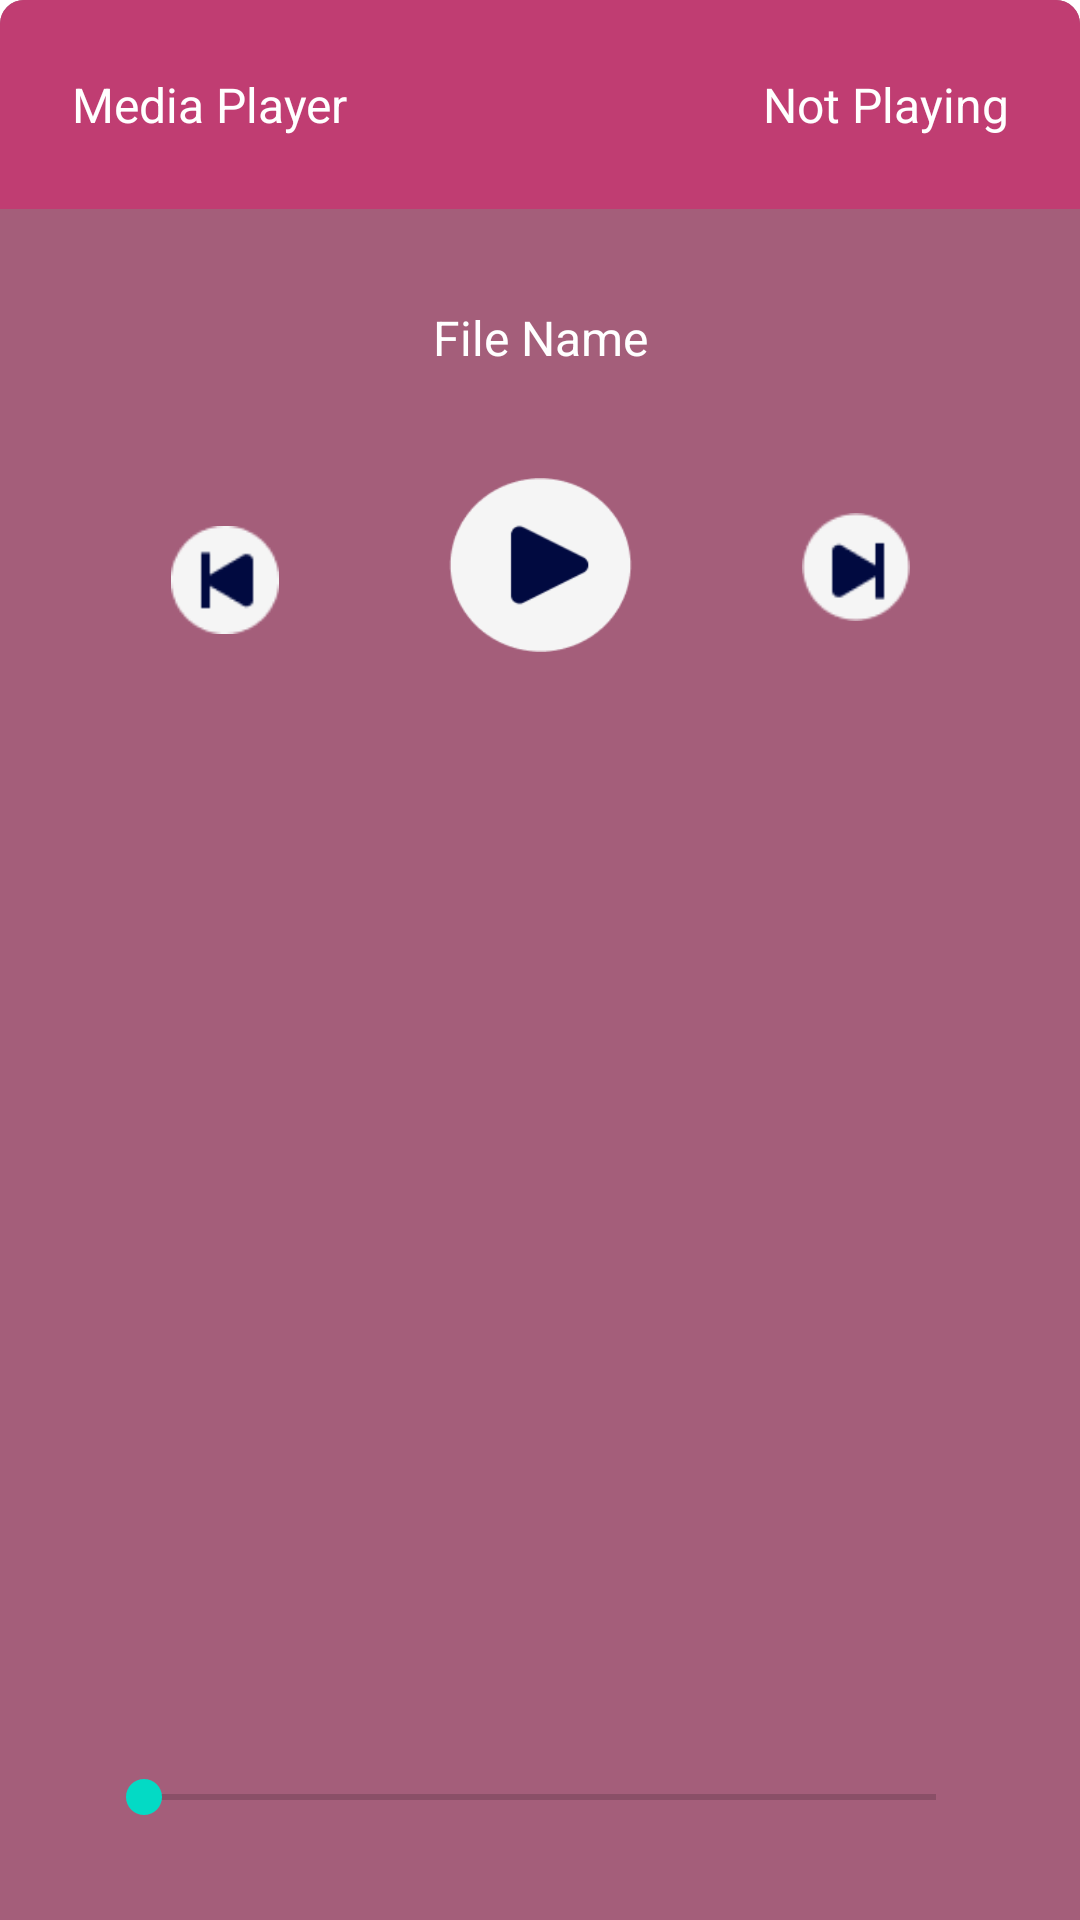

Icon click points for this 1080x1920 phone screenshot, format (x=x, y=y):
backward: (x=225, y=580)
forward: (x=856, y=567)
play: (x=540, y=565)
